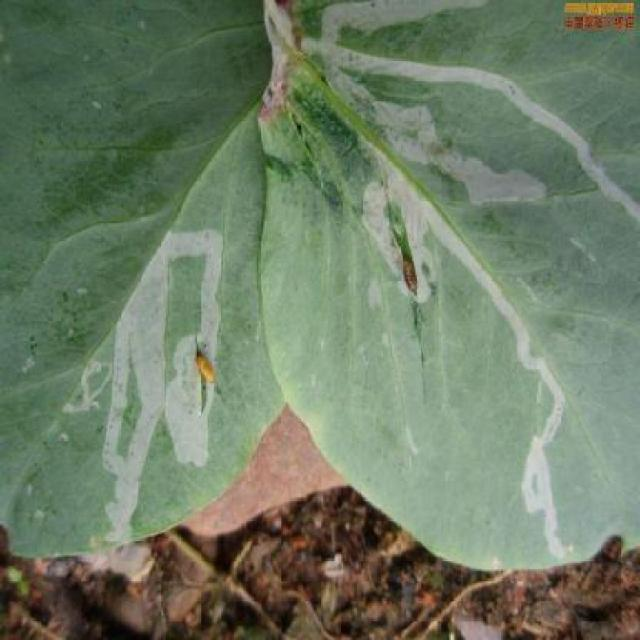whorl-maggot: (191, 343, 220, 391), (398, 252, 424, 300)
